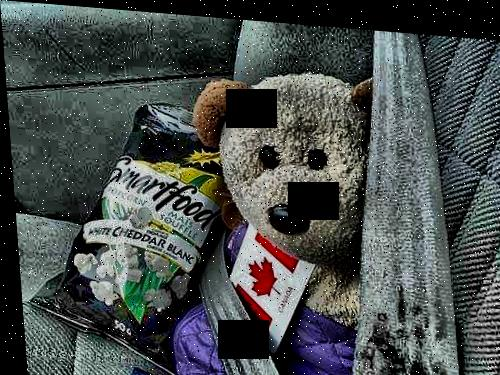seatbelt: (183, 26, 478, 375)
